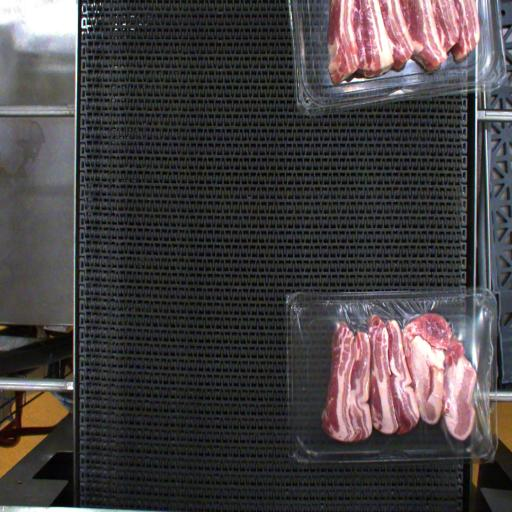unsealed: (304, 297, 490, 442)
